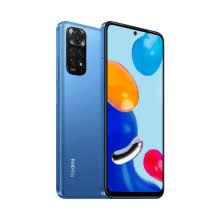Smartphone: (106, 18, 163, 202), (59, 22, 106, 202)
